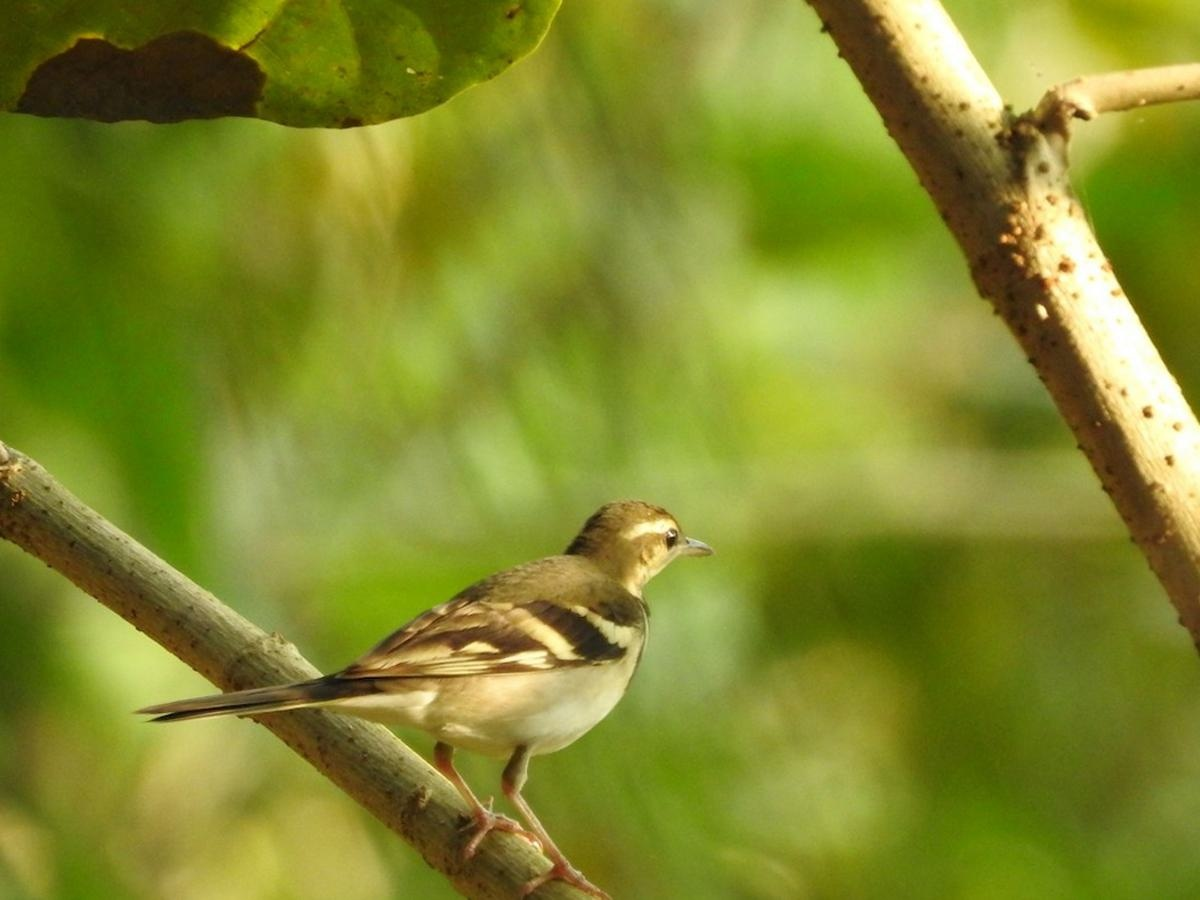wagtail: (290, 454, 744, 828)
